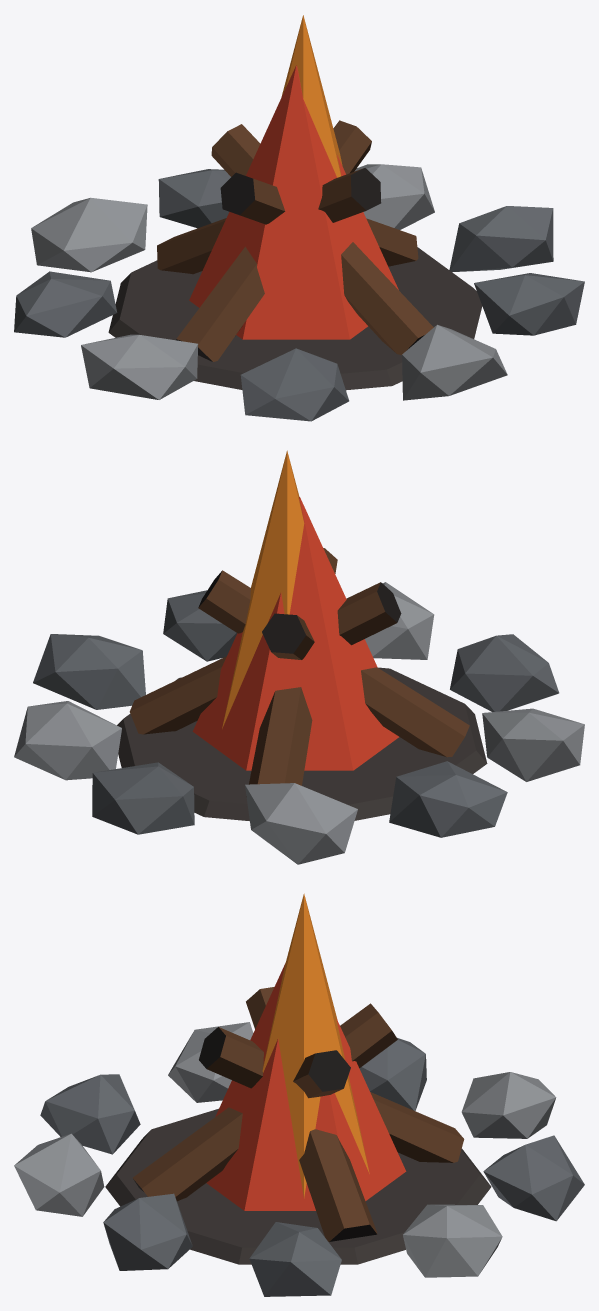
The model's file is Campfire.fbx.
3 views of the same model, one above another, from view 1: azimuth 30°, elevation 25°; view 2: azimuth 150°, elevation 25°; view 3: azimuth 270°, elevation 25° (orthographic).
Visible parts, largest first — view 1: Campfire; view 2: Campfire; view 3: Campfire.
Boxes of the visible parts, left/top/right/bottom form: Campfire: left=14, top=15, right=584, bottom=421; Campfire: left=14, top=450, right=584, bottom=864; Campfire: left=14, top=893, right=584, bottom=1296.
Bounding box in the file's own units: 5.08 × 2.9 × 5.02.
1 material, 1 textured.
